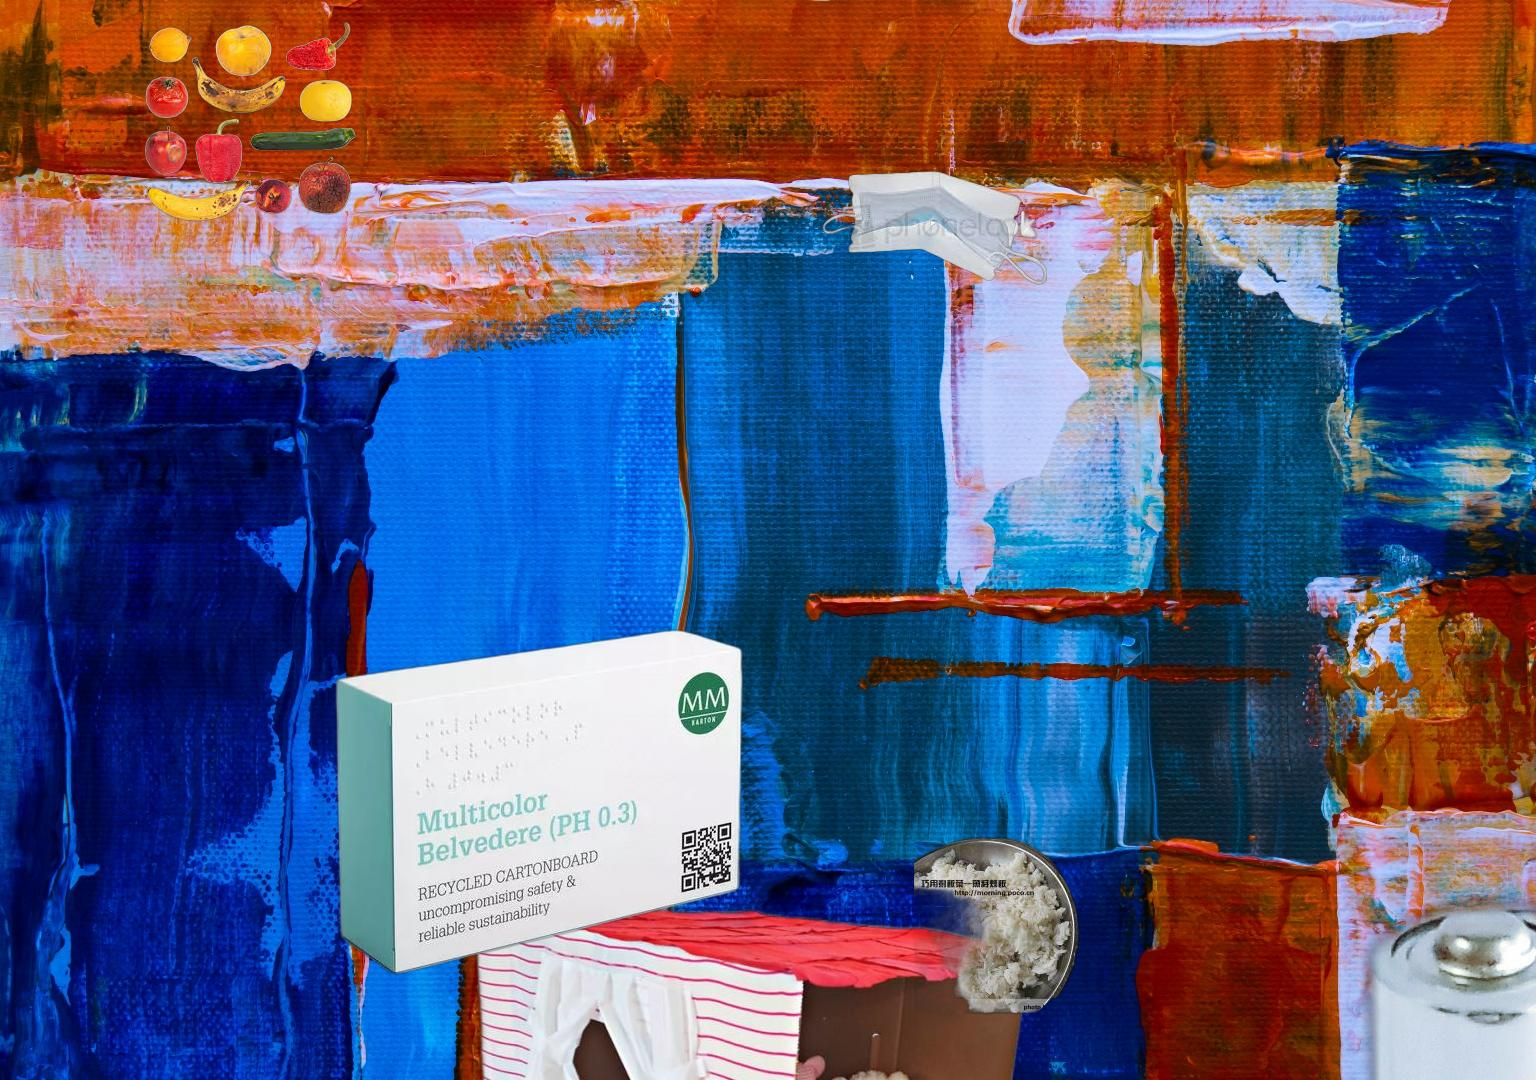battery: (748, 879, 1536, 1080)
biological: (134, 20, 359, 230), (914, 835, 1079, 1026)
paper-bag: (1482, 1072, 1536, 1080)
trash: (822, 168, 1047, 288), (1465, 954, 1536, 1080)
trashbox-cardboard: (456, 501, 1050, 1080), (331, 625, 749, 978)
